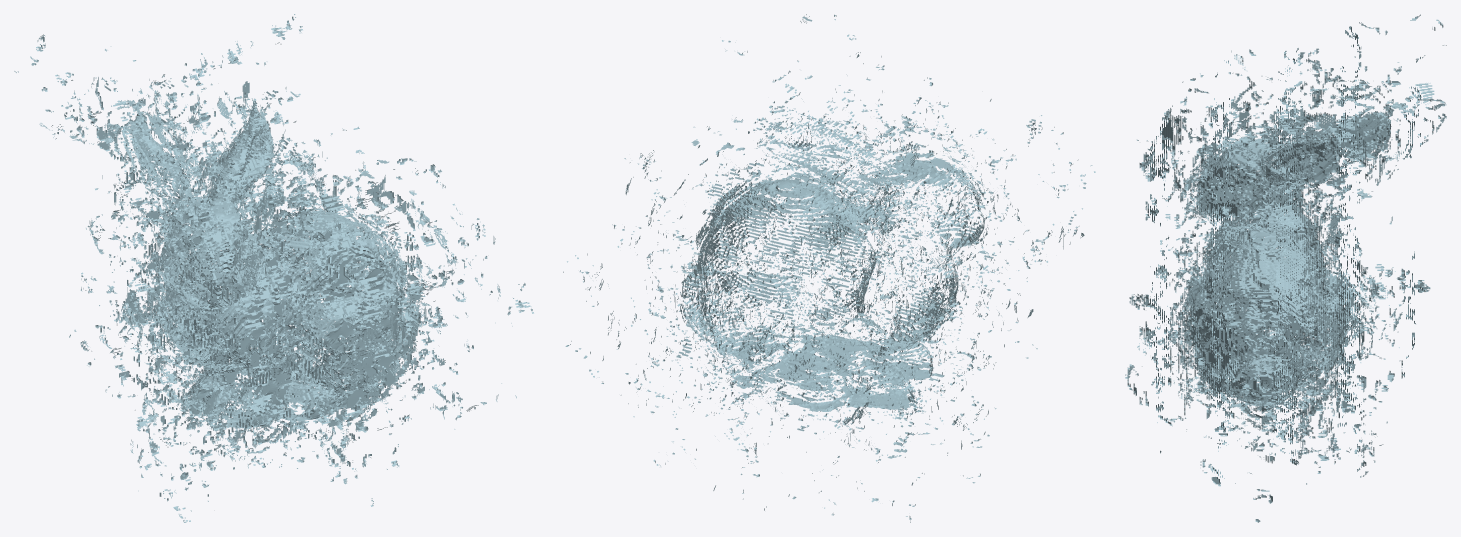
The model's file is dudf.glb.
3 renders of one model, left to right at view 1: azimuth 30°, elevation 25°; view 2: azimuth 150°, elevation 25°; view 3: azimuth 270°, elevation 25°, orthographic. The views are drawn at different scales.
Visible parts, largest first — view 1: dudf.obj; view 2: dudf.obj; view 3: dudf.obj.
Part boxes in pixels (left/top/right/bottom): dudf.obj: left=14, top=14, right=533, bottom=522; dudf.obj: left=563, top=14, right=1095, bottom=522; dudf.obj: left=1125, top=14, right=1446, bottom=522.
Bounding box in the file's own units: 1 × 0.9432 × 0.6884.
